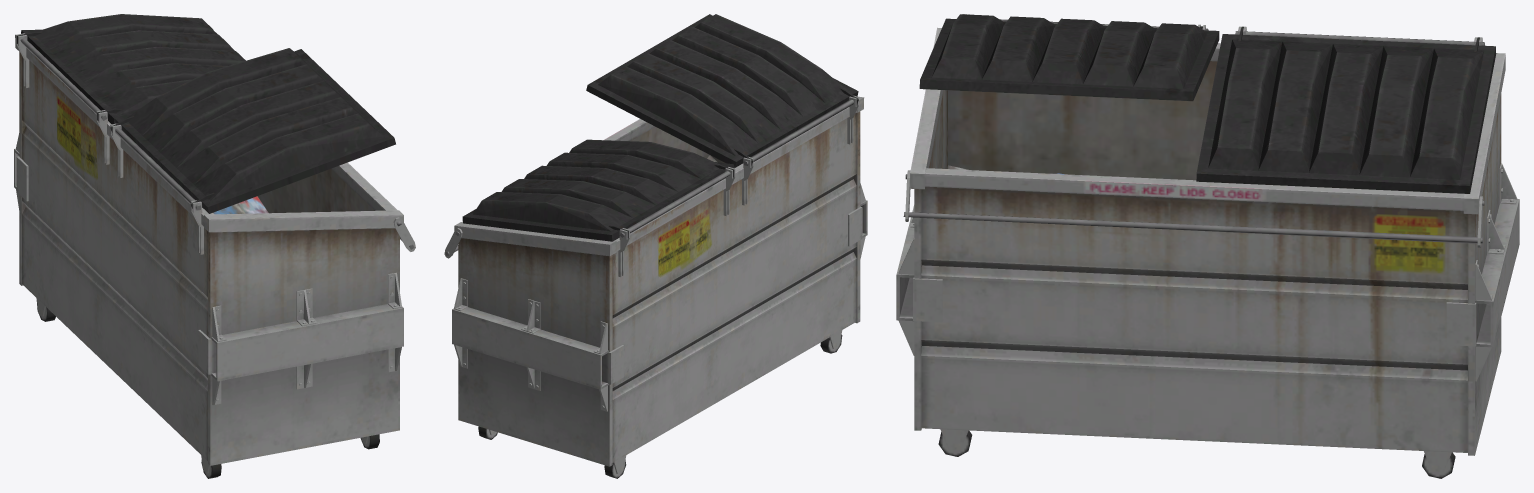
The model's file is ItemSpot.fbx.
3 views of the same model, side by side, from view 1: azimuth 30°, elevation 25°; view 2: azimuth 150°, elevation 25°; view 3: azimuth 270°, elevation 25° (orthographic). The views are drawn at different scales.
Visible parts, largest first — view 1: ItemBox_Dumpster_01; view 2: ItemBox_Dumpster_01; view 3: ItemBox_Dumpster_01.
Boxes of the visible parts, bbox=[...] form: ItemBox_Dumpster_01: bbox=[14, 14, 415, 478]; ItemBox_Dumpster_01: bbox=[444, 14, 867, 478]; ItemBox_Dumpster_01: bbox=[896, 14, 1519, 478].
Bounding box in the file's own units: 1.35 × 1.74 × 2.5.
1 material, 1 textured.
